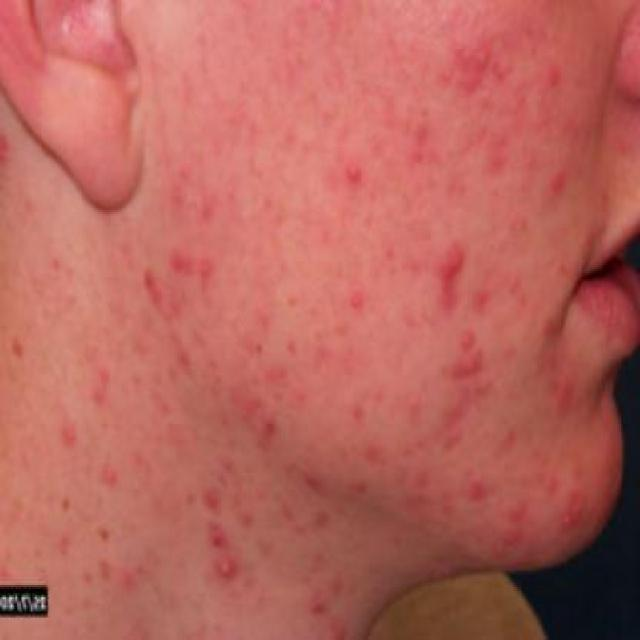papules: (429, 235, 483, 288)
pustules: (423, 57, 463, 100), (52, 410, 90, 454), (212, 554, 250, 587), (472, 45, 502, 75)
whiteheads: (337, 147, 380, 204), (338, 292, 376, 324), (456, 330, 484, 359)
